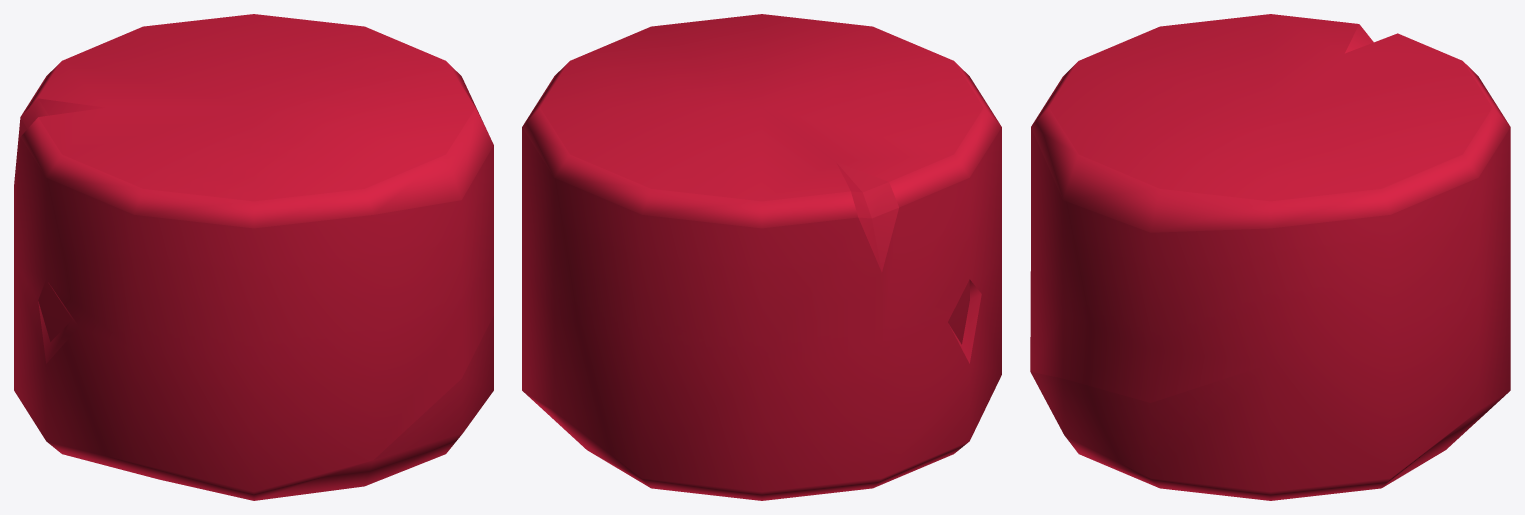
Rendered from pillar_stone1_red.fbx.
The picture shows the model from 3 angles, left to right: view 1: azimuth 30°, elevation 25°; view 2: azimuth 150°, elevation 25°; view 3: azimuth 270°, elevation 25°; orthographic projection.
Visible parts, largest first — view 1: pillar_stone1_red; view 2: pillar_stone1_red; view 3: pillar_stone1_red.
Boxes of the visible parts, bbox=[...] form: pillar_stone1_red: bbox=[14, 14, 493, 500]; pillar_stone1_red: bbox=[522, 14, 1001, 500]; pillar_stone1_red: bbox=[1030, 14, 1510, 500].
Size of the model in its own units: 150 by 103 by 150.
